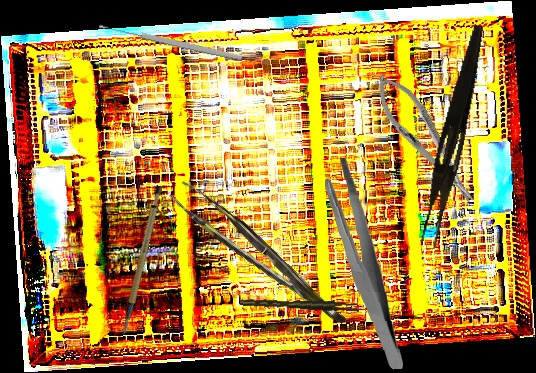Dressing Forceps: (323, 156, 404, 372), (418, 22, 488, 250)
Needle Holder: (364, 65, 486, 213)
Scalpel Handle: (97, 183, 183, 337)
Surgical Spoon: (97, 21, 244, 63)
Tissue Forceps: (168, 170, 347, 345), (240, 293, 360, 316)
